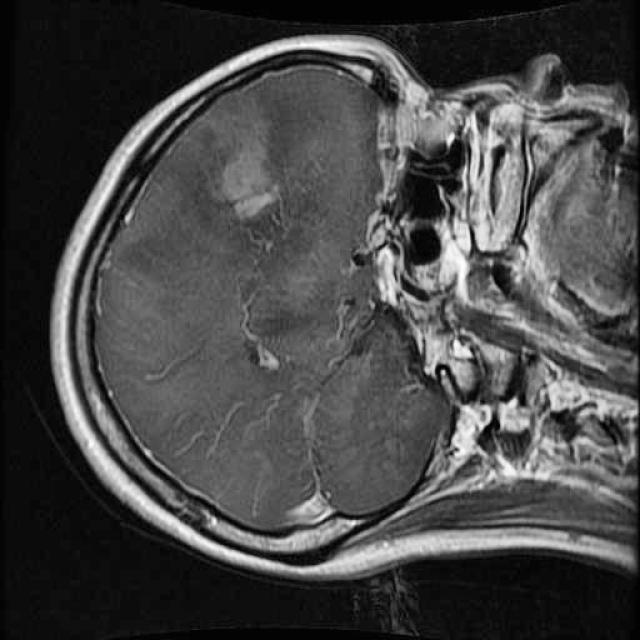Tumor: (210, 98, 294, 230)
